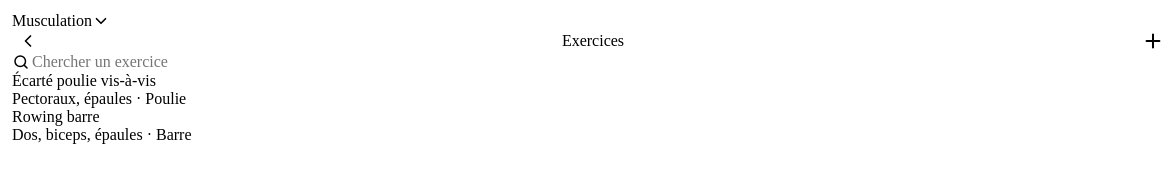
Exercices › lists the exercises with muscles and equipment, searchable without accents
The image size is (1176, 172).
Expected: the text "Dos, biceps, épaules · Barre" is shown, [12,126,192,143]
In the search field labelled "Chercher un exercice": (597, 62) [30,52,1164,72], type "ECARTE"
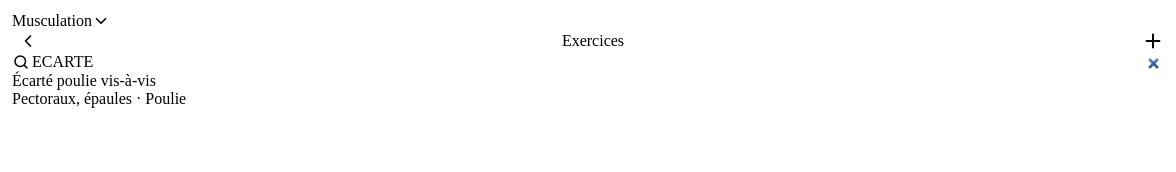
Result: the link "Rowing barre" is gone
